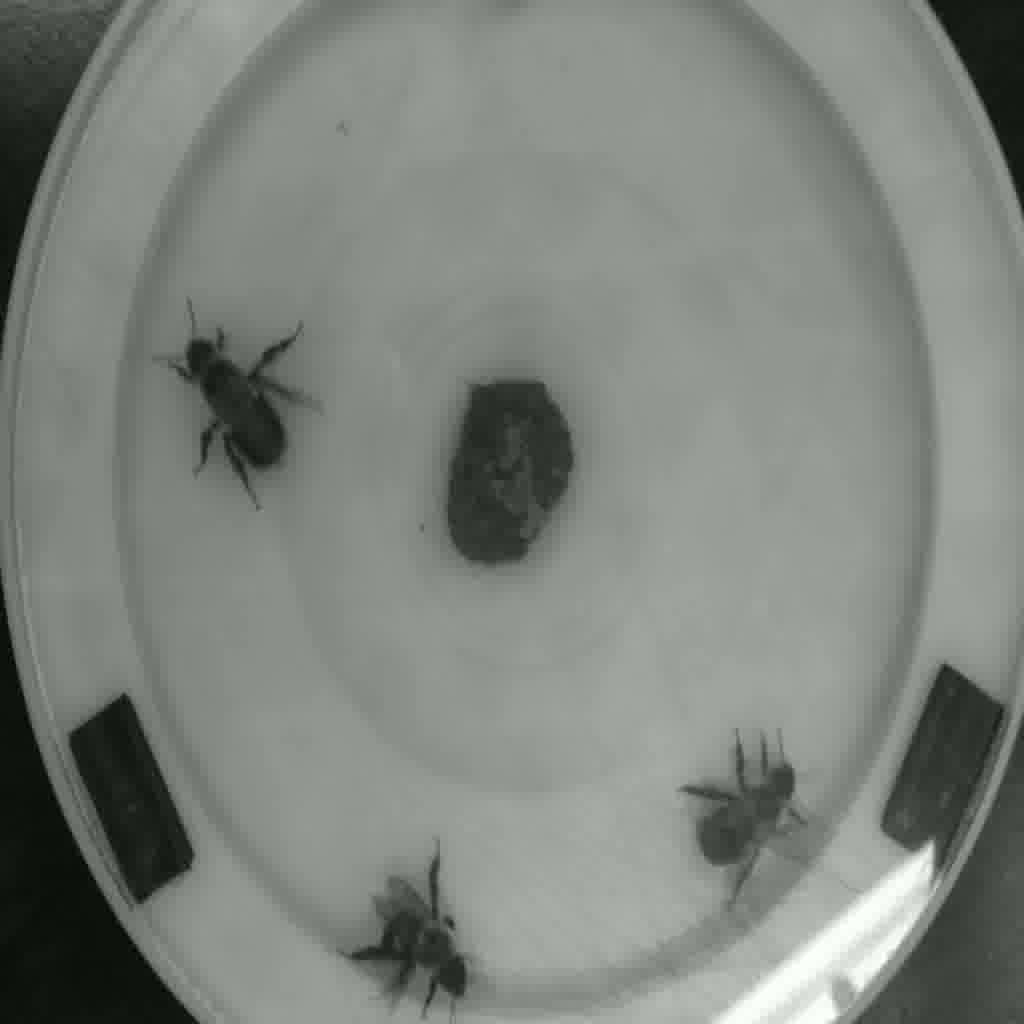bee: (150, 314, 324, 491), (333, 850, 511, 1020), (675, 708, 824, 880)
